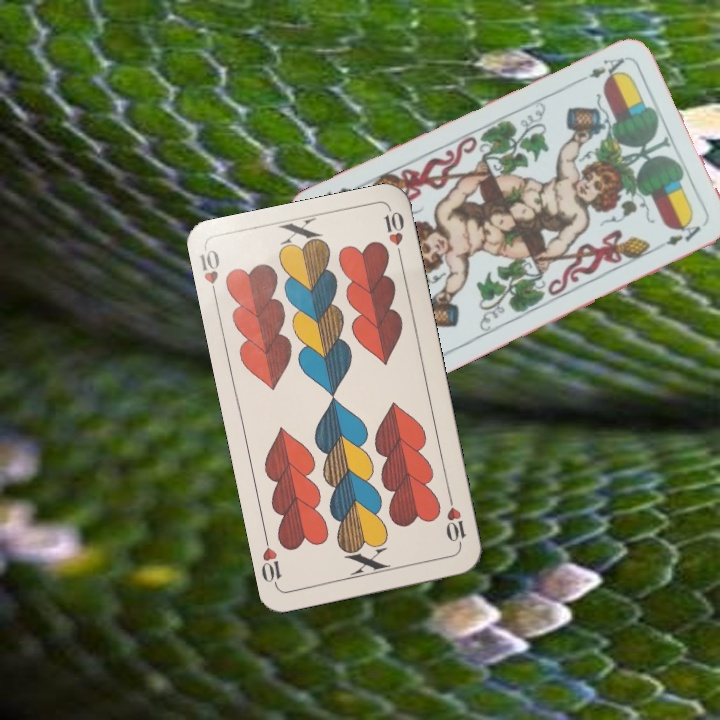EA: (585, 53, 628, 82)
H10: (442, 491, 469, 550), (196, 245, 222, 304)
